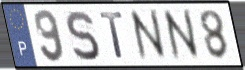8: (199, 8, 231, 62)
9: (33, 8, 67, 64)
N: (160, 7, 203, 63), (127, 7, 170, 63)
S: (64, 9, 101, 63)
T: (98, 10, 125, 60)
